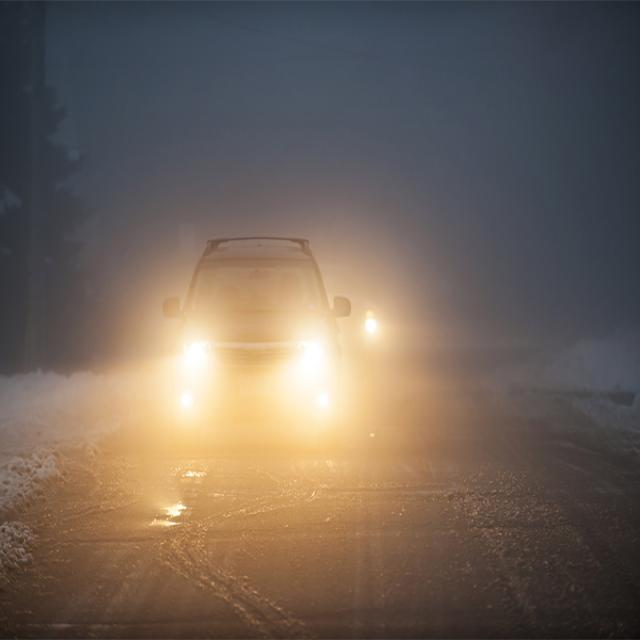Car: (160, 223, 353, 460)
